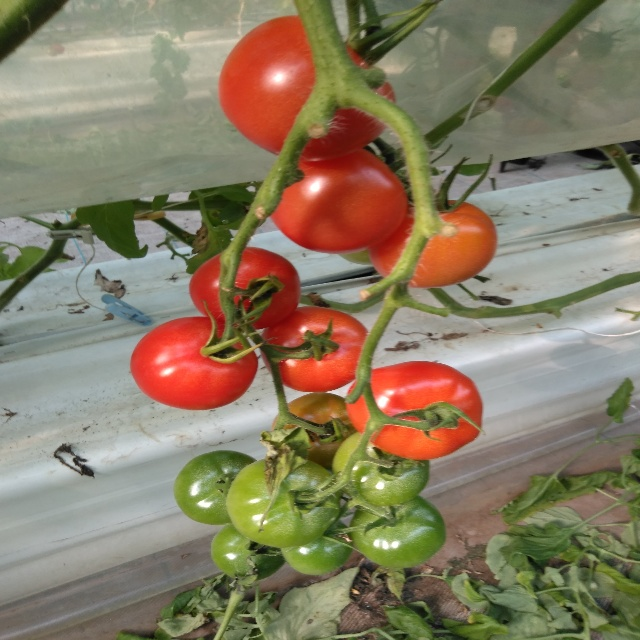l_fully_ripened: (218, 16, 397, 160), (268, 148, 407, 254), (345, 361, 484, 459), (130, 316, 259, 410), (260, 306, 372, 393), (189, 246, 300, 331)
l_green: (226, 454, 342, 548), (331, 432, 430, 506), (348, 495, 446, 569), (173, 450, 258, 525), (211, 524, 287, 581), (279, 519, 353, 576)
l_half_ripened: (369, 198, 498, 289), (272, 392, 359, 470)
